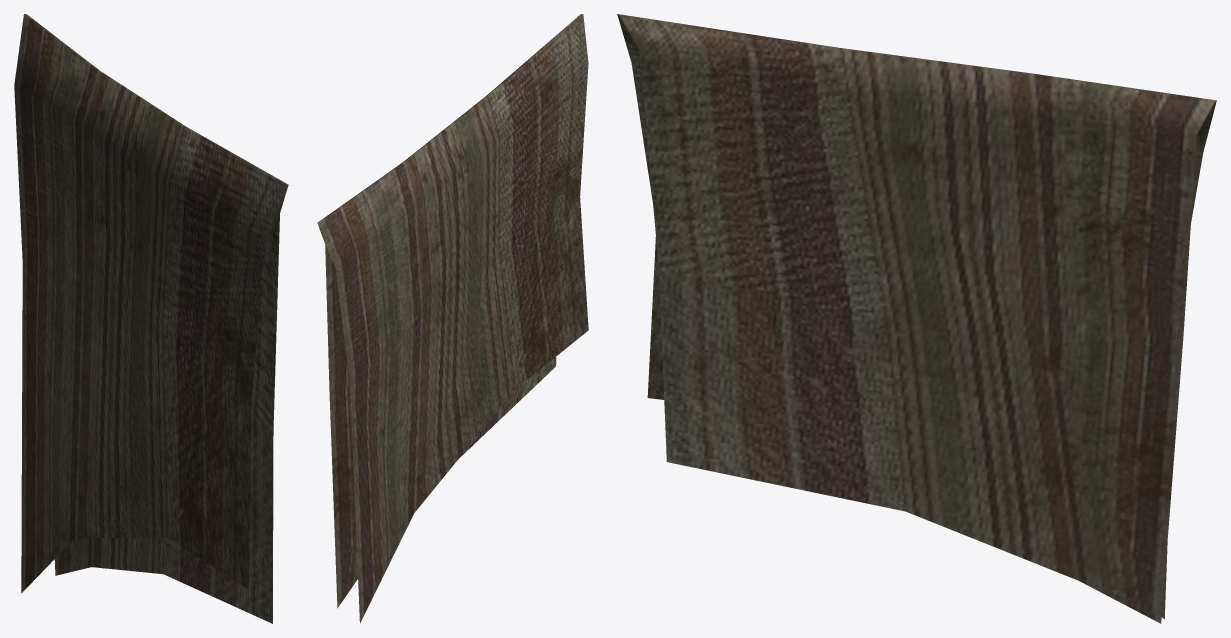
The model's file is Towel.FBX.
3 renders of one model, left to right at view 1: azimuth 30°, elevation 25°; view 2: azimuth 150°, elevation 25°; view 3: azimuth 270°, elevation 25°, orthographic. The views are drawn at different scales.
Parts seen in each view (by area): view 1: Towel; view 2: Towel; view 3: Towel.
Boxes of the visible parts, <box> form: Towel: <box>14,14,288,623</box>; Towel: <box>317,14,588,623</box>; Towel: <box>617,14,1216,623</box>.
Bounding box in the file's own units: 8.22 × 66.79 × 60.73.
